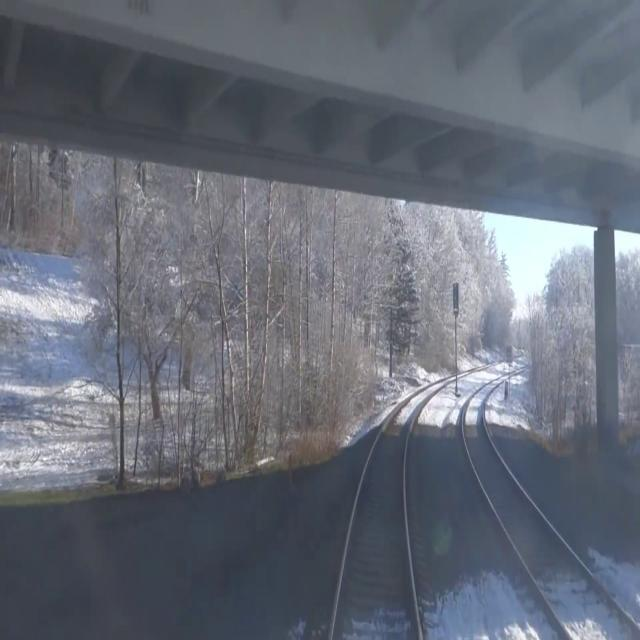rail-track: (464, 386, 640, 639), (333, 383, 440, 639)
